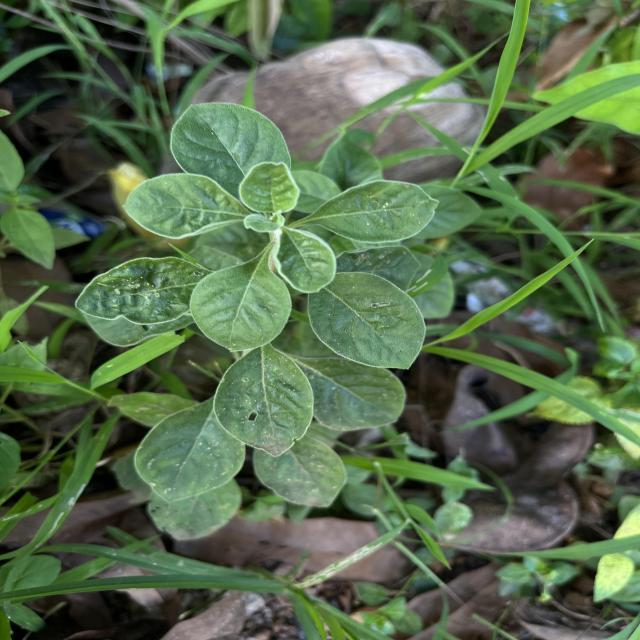Aerva lanata: (168, 99, 294, 202), (304, 268, 428, 371), (212, 344, 316, 458)
